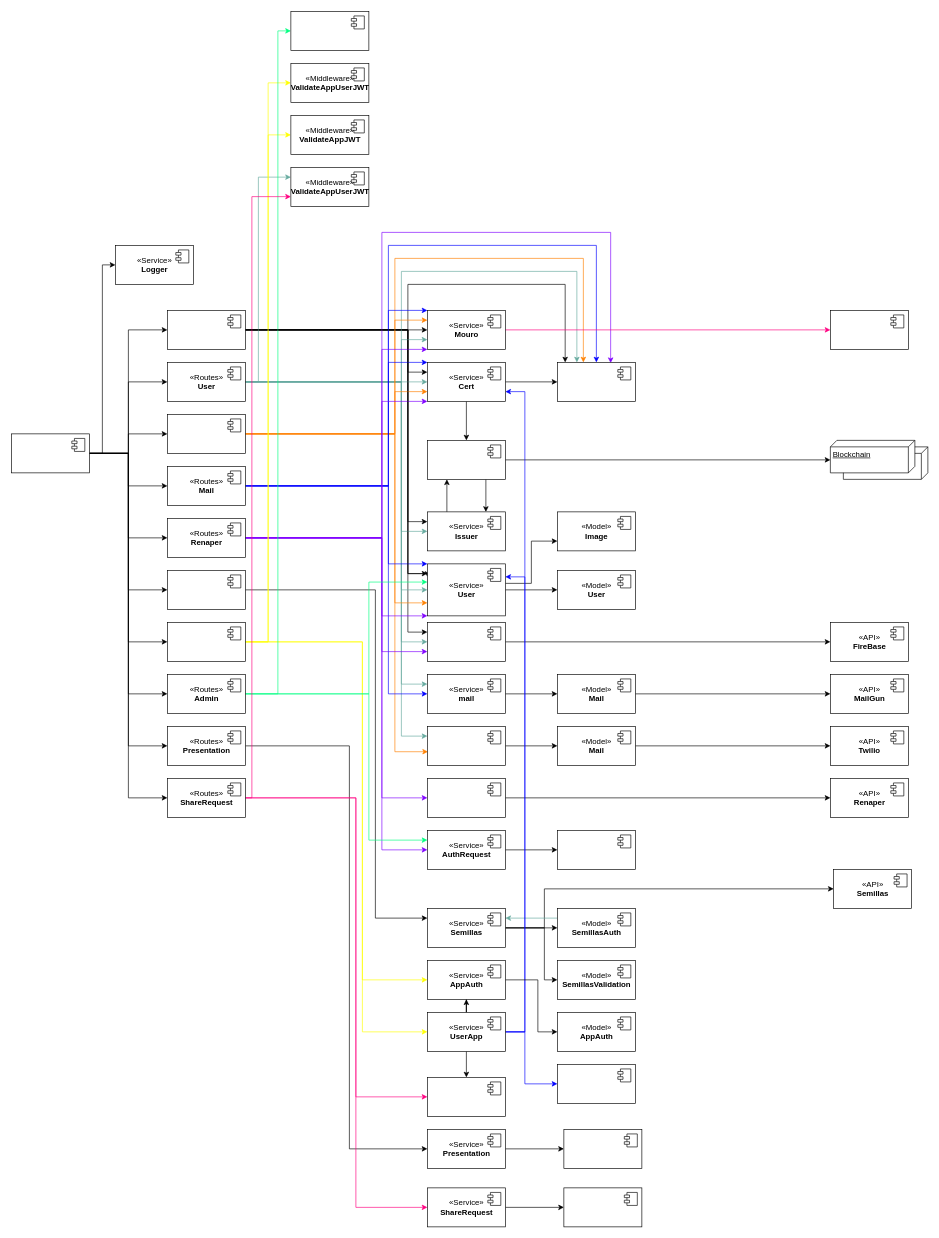
Image size: 939x1238. Some labels were removed from this diagram. Here are the shapes that lost their labels. From the top down, the box of each, then its label:
(290, 11, 369, 50): «Middleware» ValidateAdminJWT
(167, 310, 245, 349): «Routes» Issuer
(830, 310, 908, 349): «API» Mouro
(557, 362, 635, 401): «Model» Certificate
(11, 433, 89, 473): «API» DIDI
(167, 414, 245, 453): «Routes» Sms
(427, 440, 505, 479): «Service» Blockchain
(167, 570, 245, 609): «Routes» Semillas
(167, 622, 245, 661): «Routes» AppUser
(427, 622, 505, 661): «Service» FireBase
(427, 726, 505, 765): «Service» sms
(427, 778, 505, 817): «Service» Renaper
(557, 830, 635, 869): «Model» AuthRequest
(427, 1077, 505, 1116): «Service» Token
(557, 1064, 635, 1103): «Model» UserApp
(563, 1129, 642, 1168): «Model» Presentation
(563, 1187, 642, 1227): «Model» ShareRequest
